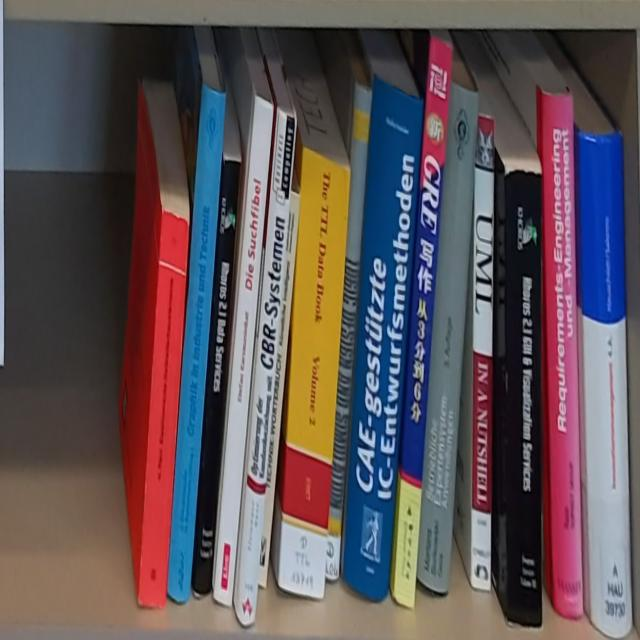Book Spine: (344, 73, 423, 600), (394, 37, 454, 610), (416, 81, 480, 595), (279, 146, 350, 602), (236, 108, 296, 627), (213, 97, 273, 610), (167, 84, 226, 602), (580, 130, 633, 638), (325, 83, 372, 581), (543, 91, 583, 620), (193, 159, 241, 596), (139, 209, 190, 611), (506, 171, 543, 628), (259, 192, 300, 591), (472, 115, 495, 594)
